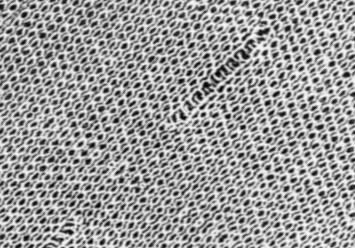slub: (152, 20, 281, 137), (39, 209, 84, 248)
